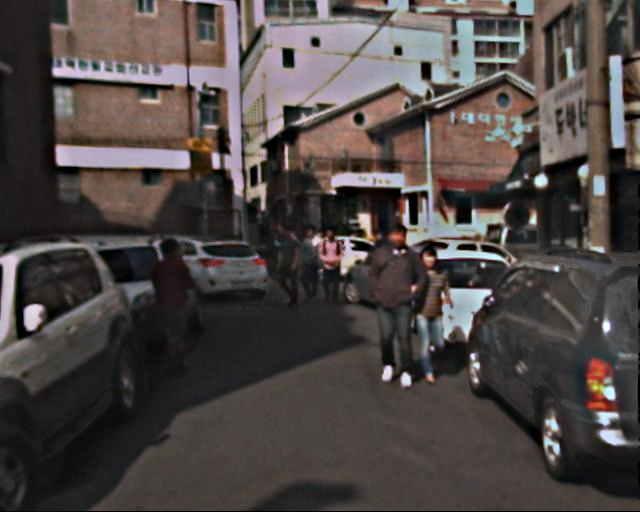person: (363, 222, 430, 386), (146, 239, 201, 373), (403, 249, 458, 383), (275, 226, 308, 307), (315, 227, 346, 302), (297, 223, 327, 295)
